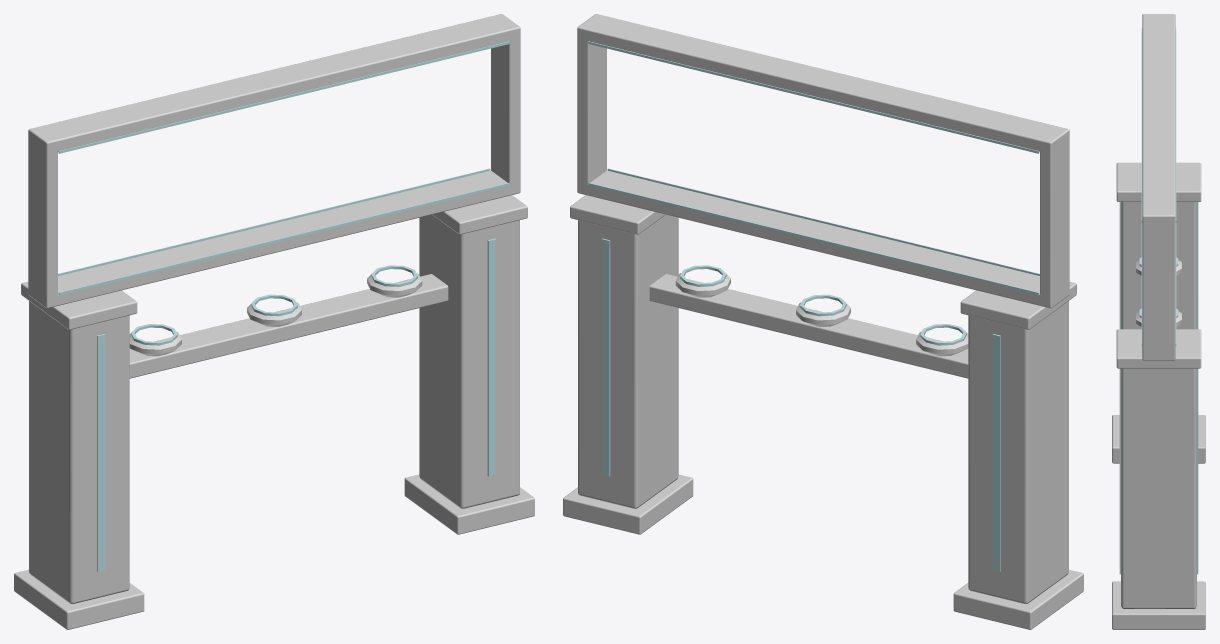
File: WorldsGateFrame.glb
3 views of the same model, side by side, from view 1: azimuth 30°, elevation 25°; view 2: azimuth 150°, elevation 25°; view 3: azimuth 270°, elevation 25° (orthographic). The views are drawn at different scales.
Parts seen in each view (by area): view 1: Body, Glow; view 2: Body, Glow; view 3: Body, Glow.
Boxes of the visible parts, x1=… form: Body: x1=14, y1=14, x2=534, y2=629; Glow: x1=58, y1=41, x2=509, y2=571; Body: x1=563, y1=14, x2=1083, y2=629; Glow: x1=588, y1=41, x2=1039, y2=571; Body: x1=1112, y1=14, x2=1205, y2=629; Glow: x1=1119, y1=28, x2=1198, y2=574.
Bounding box in the file's own units: 31.6 × 30.3 × 6.2.
